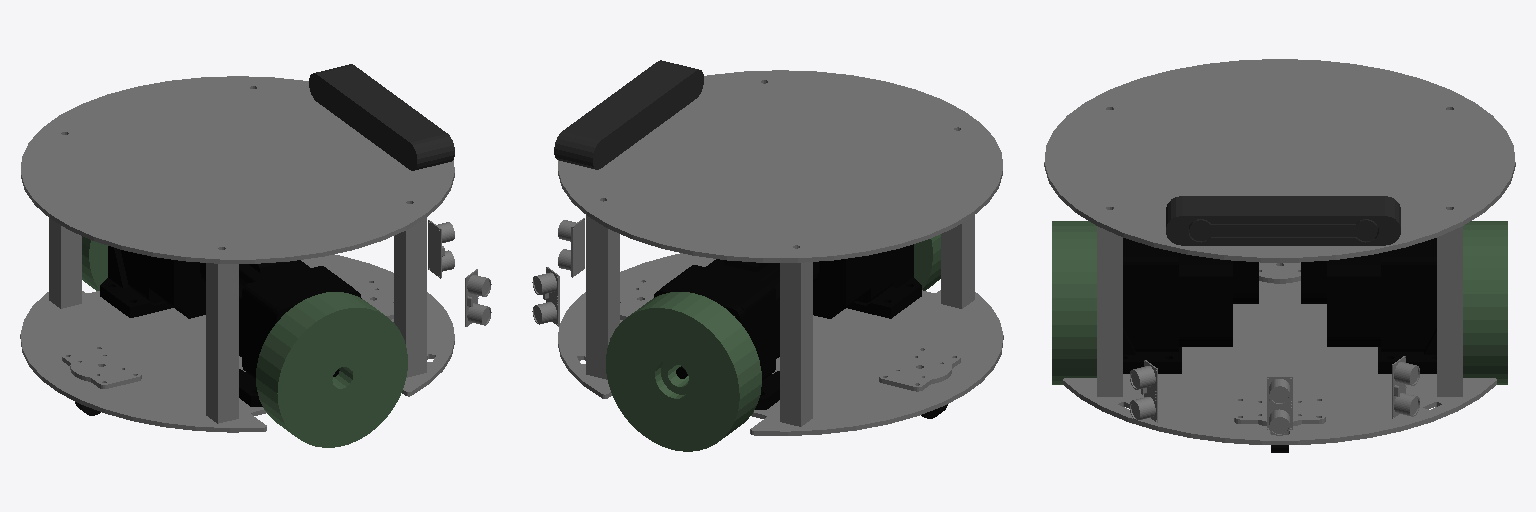
The robot description file, URDF, robot "bucketbot_description":
<robot
  name="bucketbot_description">
  <link name="base_footprint"/>
    <joint name="base_joint" type="fixed">
      <origin xyz="0 0 0.0102" rpy="0 0 0" />
      <parent link="base_footprint"/>
      <child link="base_link" />
    </joint>
  <link
    name="base_link">
    <inertial>
      <origin
        xyz="-0.0499953708642669 0.273628593838788 0.235169610668493"
        rpy="0 0 0" />
      <mass
        value="0.367366200465706" />
      <inertia
        ixx="0.00331510122406848"
        ixy="5.85609399730688E-21"
        ixz="-1.82174000558671E-19"
        iyy="0.00553148809580428"
        iyz="-4.22084839832949E-08"
        izz="0.00221806653528144" />
    </inertial>
    <visual>
      <origin
        xyz="0 0 0"
        rpy="0 0 3.1415" />
      <geometry>
        <mesh
          filename="package://bucketbot_description/meshes/base_link.stl" />
      </geometry>
      <material
        name="">
        <color
          rgba="0.5 0.5 0.5 1" />
      </material>
    </visual>
    <collision>
      <origin
        xyz="0 0 0"
        rpy="0 0 0" />
      <geometry>
        <mesh
          filename="package://bucketbot_description/meshes/base_link.stl" />
      </geometry>
    </collision>
  </link>
  <link
    name="motor_link">
    <inertial>
      <origin
        xyz="1.1102E-16 0.0023428 0.127"
        rpy="0 0 0" />
      <mass
        value="1.3269" />
      <inertia
        ixx="0.0113"
        ixy="-2.4346E-19"
        ixz="1.0262E-17"
        iyy="0.011261"
        iyz="-1.4454E-10"
        izz="0.0015606" />
    </inertial>
    <visual>
      <origin
        xyz="0 0 0"
        rpy="0 0 0" />
      <geometry>
        <mesh
          filename="package://bucketbot_description/meshes/motor_link.stl" />
      </geometry>
      <material
        name="">
        <color
          rgba="0.05 0.05 0.05 1" />
      </material>
    </visual>
    <collision>
      <origin
        xyz="0 0 0"
        rpy="0 0 0" />
      <geometry>
        <mesh
          filename="package://bucketbot_description/meshes/motor_link.stl" />
      </geometry>
    </collision>
  </link>
  <joint
    name="motor_joint"
    type="fixed">
    <origin
      xyz="0 -0.127 0.0515"
      rpy="-1.5708 -1.6653E-15 -2.6914E-16" />
    <parent
      link="base_link" />
    <child
      link="motor_link" />
    <axis
      xyz="0 0 0" />
  </joint>
  <link
    name="omini_wheel_link">
    <inertial>
      <origin
        xyz="-1.201E-07 -0.014473 -0.13577"
        rpy="0 0 0" />
      <mass
        value="0.024238" />
      <inertia
        ixx="0.00041417"
        ixy="1.0458E-11"
        ixz="-1.1015E-11"
        iyy="0.00041218"
        iyz="1.143E-06"
        izz="4.0051E-06" />
    </inertial>
    <visual>
      <origin
        xyz="0 0 0"
        rpy="0 0 0" />
      <geometry>
        <mesh
          filename="package://bucketbot_description/meshes/omini_wheel_link.stl" />
      </geometry>
      <material
        name="">
        <color
          rgba="0.1 0.1 0.1 1" />
      </material>
    </visual>
    <collision>
      <origin
        xyz="0 0 0"
        rpy="0 0 0" />
      <geometry>
        <mesh
          filename="package://bucketbot_description/meshes/omini_wheel_link.stl" />
      </geometry>
    </collision>
  </link>
  <joint
    name="omini_wheel_joint"
    type="fixed">
    <origin
      xyz="0.13 0 0.0025"
      rpy="1.5708 -4.482E-31 1.5708" />
    <parent
      link="base_link" />
    <child
      link="omini_wheel_link" />
    <axis
      xyz="0 0 0" />
  </joint>
  <link
    name="pole_link">
    <inertial>
      <origin
        xyz="0.13 0.075 0.09"
        rpy="0 0 0" />
      <mass
        value="0.23757" />
      <inertia
        ixx="0.0023712"
        ixy="4.2381E-19"
        ixz="-1.0842E-19"
        iyy="0.0059551"
        iyz="-2.881E-19"
        izz="0.0044618" />
    </inertial>
    <visual>
      <origin
        xyz="0 0 0"
        rpy="0 0 0" />
      <geometry>
        <mesh
          filename="package://bucketbot_description/meshes/pole_link.stl" />
      </geometry>
      <material
        name="">
        <color
          rgba="0.5 0.5 0.5 1" />
      </material>
    </visual>
    <collision>
      <origin
        xyz="0 0 0"
        rpy="0 0 0" />
      <geometry>
        <mesh
          filename="package://bucketbot_description/meshes/pole_link.stl" />
      </geometry>
    </collision>
  </link>
  <joint
    name="pole_joint"
    type="fixed">
    <origin
      xyz="-0.09 -0.13 0.004"
      rpy="1.5708 -4.482E-31 1.5708" />
    <parent
      link="base_link" />
    <child
      link="pole_link" />
    <axis
      xyz="0 0 0" />
  </joint>
  <link
    name="top_plate_link">
    <inertial>
      <origin
        xyz="0 0.002 0"
        rpy="0 0 0" />
      <mass
        value="0.40662" />
      <inertia
        ixx="0.0032942"
        ixy="5.1699E-24"
        ixz="-2.068E-22"
        iyy="0.0065826"
        iyz="2.5849E-24"
        izz="0.0032895" />
    </inertial>
    <visual>
      <origin
        xyz="0 0 0"
        rpy="0 0 0" />
      <geometry>
        <mesh
          filename="package://bucketbot_description/meshes/top_plate_link.stl" />
      </geometry>
      <material
        name="">
        <color
          rgba="0.5 0.5 0.5 1" />
      </material>
    </visual>
    <collision>
      <origin
        xyz="0 0 0"
        rpy="0 0 0" />
      <geometry>
        <mesh
          filename="package://bucketbot_description/meshes/top_plate_link.stl" />
      </geometry>
    </collision>
  </link>
  <joint
    name="top_plate_joint"
    type="fixed">
    <origin
      xyz="0 0 0.154"
      rpy="1.5708 -4.482E-31 1.5708" />
    <parent
      link="base_link" />
    <child
      link="top_plate_link" />
    <axis
      xyz="0 0 0" />
  </joint>
  <link
    name="camera_link">
    <inertial>
      <origin
        xyz="1.3878E-17 1.1102E-16 -0.00026767"
        rpy="0 0 0" />
      <mass
        value="0.154" />
      <inertia
        ixx="2.4237E-05"
        ixy="-9.6537E-22"
        ixz="-8.3256E-21"
        iyy="0.00041068"
        iyz="-2.6916E-22"
        izz="0.00040212" />
    </inertial>
    <visual>
      <origin
        xyz="0 0 0"
        rpy="1.5708 0 1.5708" />
      <geometry>
        <mesh
          filename="package://bucketbot_description/meshes/camera_link.stl" />
      </geometry>
      <material
        name="">
        <color
          rgba="0.2 0.2 0.2 1" />
      </material>
    </visual>
    <collision>
      <origin
        xyz="0 0 0"
        rpy="0 0 0" />
      <geometry>
        <mesh
          filename="package://bucketbot_description/meshes/camera_link.stl" />
      </geometry>
    </collision>
  </link>
  <joint
    name="camera_joint"
    type="fixed">
    <origin
      xyz="0.13946 0.0026256 0.1705"
      rpy="0 -4.482E-31 0" />
    <parent
      link="base_link" />
    <child
      link="camera_link" />
    <axis
      xyz="0 0 0" />
  </joint>
  <!--for camera sensor model -->
      <joint name="camera_depth_joint" type="fixed">
        <origin xyz="0.0 0.049 0.0" rpy="0 0 0" />
        <parent link="camera_link" />
        <child link="camera_depth_frame"/>
      </joint>
      <link name="camera_depth_frame"/>

      <joint name="camera_depth_optical_joint" type="fixed">
        <origin xyz="0 0 0" rpy="-1.5708 0.0 -1.5708" />
        <parent link="camera_depth_frame" />
        <child link="camera_depth_optical_frame"/>
      </joint>

      <link name="camera_depth_optical_frame"/>

      <joint name="camera_rgb_joint" type="fixed">
        <origin xyz="0.0 0.022 0.0" rpy="0 0 0" />
        <parent link="camera_link" />
        <child link="camera_rgb_frame"/>
      </joint>

      <link name="camera_rgb_frame"/>

      <joint name="camera_rgb_optical_joint" type="fixed">
        <origin xyz="0 0 0" rpy="-1.5708 0.0 -1.5708" />
        <parent link="camera_rgb_frame" />
        <child link="camera_rgb_optical_frame"/>
      </joint>
      <link name="camera_rgb_optical_frame"/>
  <!--link
    name="laser_link">
    <inertial>
      <origin
        xyz="-0.0034294 -1.7992E-10 -0.0064564"
        rpy="0 0 0" />
      <mass
        value="0.14728" />
      <inertia
        ixx="6.2168E-05"
        ixy="2.8308E-12"
        ixz="5.4164E-06"
        iyy="8.3311E-05"
        iyz="3.0404E-13"
        izz="0.00011395" />
    </inertial>
    <visual>
      <origin
        xyz="0 0 0"
        rpy="0 0 0" />
      <geometry>
        <mesh
          filename="package://bucketbot_description/meshes/laser_link.STL" />
      </geometry>
      <material
        name="">
        <color
          rgba="0.75294 0.75294 0.75294 1" />
      </material>
    </visual>
    <collision>
      <origin
        xyz="0 0 0"
        rpy="0 0 0" />
      <geometry>
        <mesh
          filename="package://bucketbot_description/meshes/laser_link.STL" />
      </geometry>
    </collision>
  </link>
  <joint
    name="laser"
    type="fixed">
    <origin
      xyz="0.1425 0 0.204"
      rpy="0 0 6.314E-15" />
    <parent
      link="base_link" />
    <child
      link="laser_link" />
    <axis
      xyz="0 0 0" />
  </joint-->

<link
    name="FL_ultrasonic_link">
    <inertial>
      <origin
        xyz="0 0 0"
        rpy="0 0 0" />
      <mass
        value="0.42561" />
      <inertia
        ixx="0.00047626"
        ixy="-2.6156E-19"
        ixz="1.3553E-20"
        iyy="0.00086139"
        iyz="-5.6288E-20"
        izz="0.00047626" />
    </inertial>
    <visual>
      <origin
        xyz="0 -0.01022 -0.02275"
        rpy="0 -1.5708 -1.0472" />
      <geometry>
        <mesh
          filename="package://bucketbot_description/meshes/ultrasonic_link.STL" />
      </geometry>
      <material
        name="">
        <color
          rgba="0.5 0.5 0.5 1" />
      </material>
    </visual>
    <collision>
      <origin
        xyz="0 0 0"
        rpy="0 0 0" />
      <geometry>
        <mesh
          filename="package://bucketbot_description/meshes/ultrasonic_link.STL" />
      </geometry>
    </collision>
  </link>
  <joint
    name="FL_ultrasonic_joint"
    type="fixed">
    <origin
      xyz="0.163 0.094 0.04"
      rpy="0 0 0.5236" />
    <parent
      link="base_link" />
    <child
      link="FL_ultrasonic_link" />
    <axis
      xyz="0 0 0" />
  </joint>

  <link
    name="FC_ultrasonic_link">
    <inertial>
      <origin
        xyz="0 0 0"
        rpy="0 0 0" />
      <mass

        value="0.42561" />
      <inertia
        ixx="0.00047626"
        ixy="-2.6156E-19"

        ixz="1.3553E-20"
        iyy="0.00086139"
        iyz="-5.6288E-20"

        izz="0.00047626" />
    </inertial>
    <visual>
      <origin

        xyz="0 -0.01022 -0.02275"
        rpy="0 -1.5708 -1.5708" />
      <geometry>
        <mesh

          filename="package://bucketbot_description/meshes/ultrasonic_link.STL" />
      </geometry>
      <material
        name="">
        <color
          rgba="0.5 0.5 0.5 1" />
      </material>
    </visual>
    <collision>
      <origin
        xyz="0 0 0"
        rpy="0 0 0" />
      <geometry>
        <mesh
          filename="package://bucketbot_description/meshes/ultrasonic_link.STL" />
      </geometry>
    </collision>
  </link>
  <joint
    name="FC_ultrasonic_joint"
    type="fixed">
    <origin
      xyz="0.188 0 0.04"
      rpy="0 0 0" />
    <parent
      link="base_link" />
    <child
      link="FC_ultrasonic_link" />
    <axis
      xyz="0 0 0" />
  </joint>

  <link
    name="FR_ultrasonic_link">
    <inertial>
      <origin
        xyz="0 0 0"
        rpy="0 0 0" />
      <mass
        value="0.42561" />
      <inertia
        ixx="0.00047626"
        ixy="-2.6156E-19"
        ixz="1.3553E-20"
        iyy="0.00086139"
        iyz="-5.6288E-20"
        izz="0.00047626" />
    </inertial>
    <visual>
      <origin
        xyz="0 -0.01022 -0.02275"
        rpy="0 -1.5708 -2.0944" />
      <geometry>
        <mesh
          filename="package://bucketbot_description/meshes/ultrasonic_link.STL" />
      </geometry>
      <material
        name="">
        <color
          rgba="0.5 0.5 0.5 1" />
      </material>
    </visual>
    <collision>
      <origin
        xyz="0 0 0"
        rpy="0 0 0" />
      <geometry>
        <mesh
          filename="package://bucketbot_description/meshes/ultrasonic_link.STL" />
      </geometry>
    </collision>
  </link>
  <joint
    name="FR_ultrasonic_joint"
    type="fixed">
    <origin
      xyz="0.163 -0.094 0.04"
      rpy="0 0 -0.5236" />
    <parent
      link="base_link" />
    <child
      link="FR_ultrasonic_link" />
    <axis
      xyz="0 0 0" />
  </joint>

  <link
    name="left_wheel_link">
    <inertial>
      <origin
        xyz="0 0.017846 0"
        rpy="0 0 0" />
      <mass
        value="0.42561" />
      <inertia
        ixx="0.00047626"
        ixy="-2.6156E-19"
        ixz="1.3553E-20"
        iyy="0.00086139"
        iyz="-5.6288E-20"
        izz="0.00047626" />
    </inertial>
    <visual>
      <origin
        xyz="0 0 0"
        rpy="0 0 0" />
      <geometry>
        <mesh
          filename="package://bucketbot_description/meshes/left_wheel_link.stl" />
      </geometry>
      <material
        name="">
        <color
          rgba="0.3 0.4 0.3 1" />
      </material>
    </visual>
    <collision>
      <origin
        xyz="0 0 0"
        rpy="0 0 0" />
      <geometry>
        <mesh
          filename="package://bucketbot_description/meshes/left_wheel_link.stl" />
      </geometry>
    </collision>
  </link>
  <joint
    name="left_wheel_joint"
    type="continuous">
    <origin
      xyz="0 0.138 0.0365"
      rpy="3.1416 -1.0226 3.1416" />
    <parent
      link="base_link" />
    <child
      link="left_wheel_link" />
    <axis
      xyz="0 1 0" />
  </joint>
  <link
    name="right_wheel_link">
    <inertial>
      <origin
        xyz="0 0.017846 -2.7756E-17"
        rpy="0 0 0" />
      <mass
        value="0.42561" />
      <inertia
        ixx="0.00047626"
        ixy="1.7909E-20"
        ixz="-5.4217E-20"
        iyy="0.00086139"
        iyz="5.2443E-20"
        izz="0.00047626" />
    </inertial>
    <visual>
      <origin
        xyz="0 0 0"
        rpy="0 0 0" />
      <geometry>
        <mesh
          filename="package://bucketbot_description/meshes/right_wheel_link.stl" />
      </geometry>
      <material
        name="">
        <color
          rgba="0.3 0.4 0.3 1" />
      </material>
    </visual>
    <collision>
      <origin
        xyz="0 0 0"
        rpy="0 0 0" />
      <geometry>
        <mesh
          filename="package://bucketbot_description/meshes/right_wheel_link.stl" />
      </geometry>
    </collision>
  </link>
  <joint
    name="right_wheel_joint"
    type="continuous">
    <origin
      xyz="0 -0.174 0.0365"
      rpy="0 -1.5708 0" />
    <parent
      link="base_link" />
    <child
      link="right_wheel_link" />
    <axis
      xyz="0 1 0" />
  </joint>
</robot>

--- What the picture shows (computed from the rendered views, not written in the file) ---
3 views of the same robot in one strip: view 1: azimuth 30°, elevation 25°; view 2: azimuth 150°, elevation 25°; view 3: azimuth 270°, elevation 25° (orthographic).
Model bucketbot_description with 16 links and 15 joints (2 continuous, 13 fixed), rooted at base_footprint, posed every joint at zero.
Links seen in each view (by area): view 1: top_plate_link, base_link, right_wheel_link, motor_link, pole_link, camera_link, FC_ultrasonic_link, FR_ultrasonic_link, left_wheel_link; view 2: top_plate_link, base_link, left_wheel_link, motor_link, pole_link, camera_link, FL_ultrasonic_link, right_wheel_link, FC_ultrasonic_link; view 3: top_plate_link, base_link, motor_link, camera_link, pole_link, left_wheel_link, right_wheel_link, FC_ultrasonic_link, FR_ultrasonic_link, FL_ultrasonic_link.
Boxes of the visible links, x1,y1,x2,y2 form: top_plate_link: [21, 76, 454, 263]; base_link: [20, 254, 454, 432]; right_wheel_link: [256, 292, 407, 447]; motor_link: [100, 246, 361, 406]; pole_link: [49, 218, 426, 423]; camera_link: [309, 64, 454, 170]; FC_ultrasonic_link: [428, 220, 454, 278]; FR_ultrasonic_link: [465, 269, 491, 326]; left_wheel_link: [82, 236, 107, 290]; top_plate_link: [558, 70, 1002, 262]; base_link: [558, 253, 1003, 435]; left_wheel_link: [606, 292, 761, 451]; motor_link: [654, 244, 921, 409]; pole_link: [586, 215, 974, 426]; camera_link: [554, 60, 703, 169]; FL_ultrasonic_link: [532, 267, 559, 326]; right_wheel_link: [914, 234, 940, 290]; FC_ultrasonic_link: [558, 218, 584, 277]; top_plate_link: [1044, 59, 1515, 262]; base_link: [1063, 262, 1496, 444]; motor_link: [1123, 238, 1436, 373]; camera_link: [1166, 196, 1400, 245]; pole_link: [1097, 226, 1462, 396]; left_wheel_link: [1463, 221, 1507, 384]; right_wheel_link: [1052, 221, 1096, 384]; FC_ultrasonic_link: [1267, 376, 1292, 435]; FR_ultrasonic_link: [1130, 360, 1157, 422]; FL_ultrasonic_link: [1392, 356, 1419, 418].
Bounding box of the posed robot: 0.383 × 0.3597 × 0.216 m (x, y, z).
Meshes: 9 distinct files referenced, 11 mesh visuals loaded (9 binary STL).